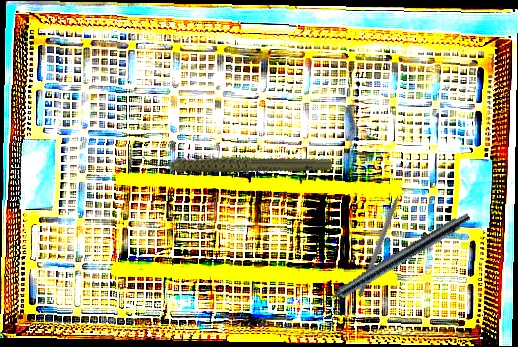Handpiece: (140, 114, 335, 210), (309, 207, 473, 316)
Hook Surgical: (357, 182, 407, 297)
